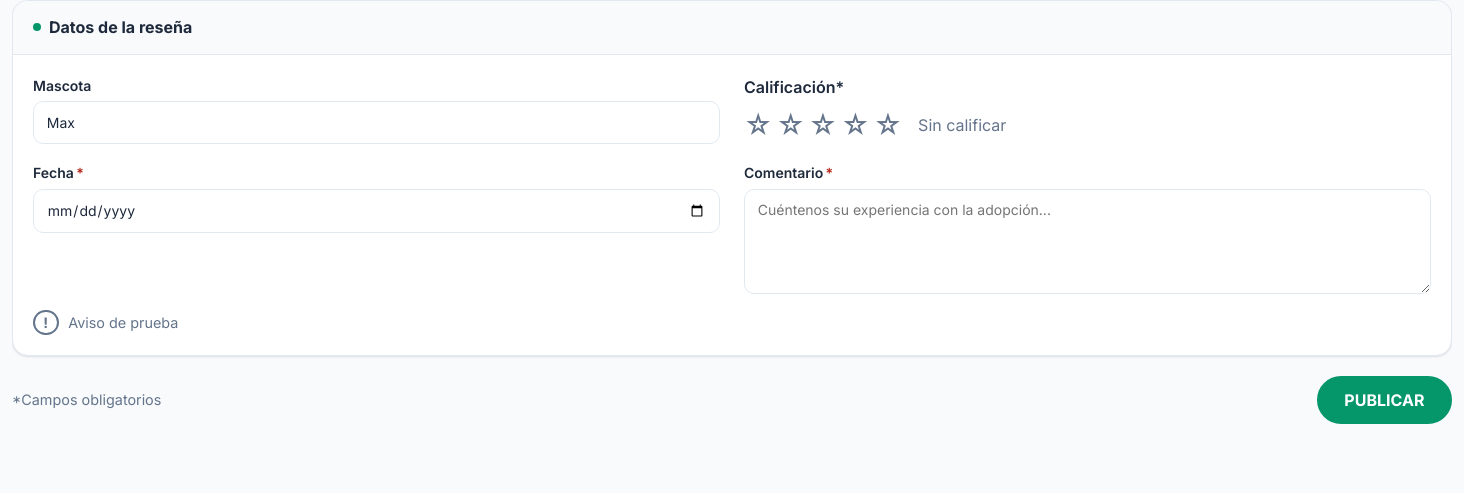
Test: ReviewForm › blocks the request and marks every empty field
Click the button "Publicar". click: (1384, 400)
box: [1317,376,1452,424]
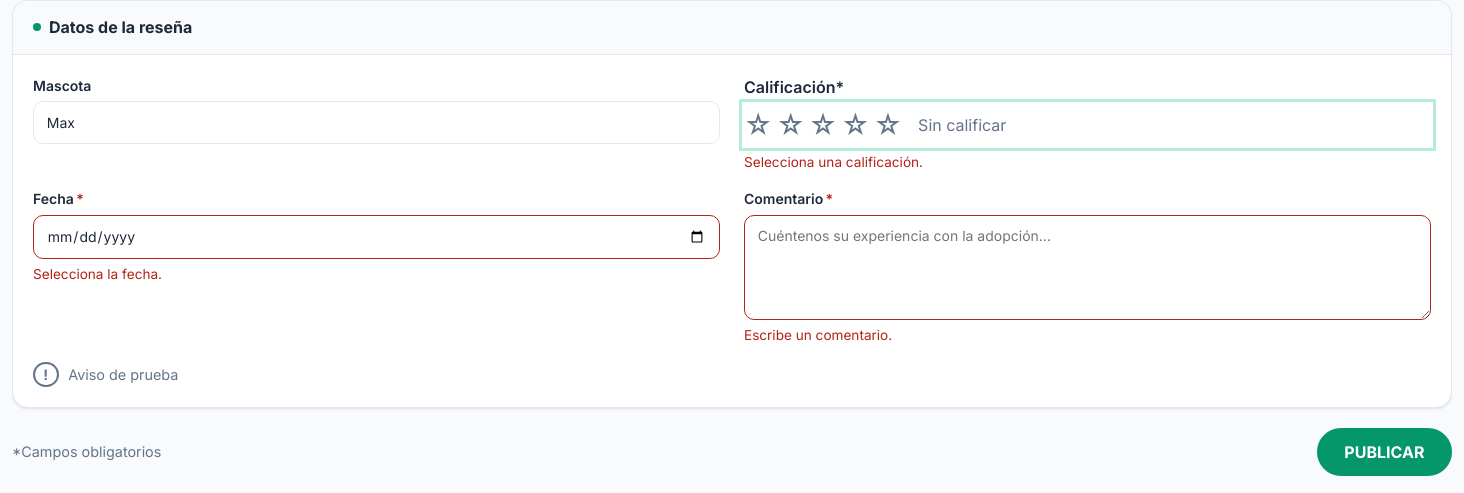
Check: the text "Selecciona una calificación." is shown, box [744,154,923,170]
Check: the text "Selecciona la fecha." is shown, box [33,266,162,282]
Check: the text "Escribe un comentario." is shown, box [744,327,892,343]
